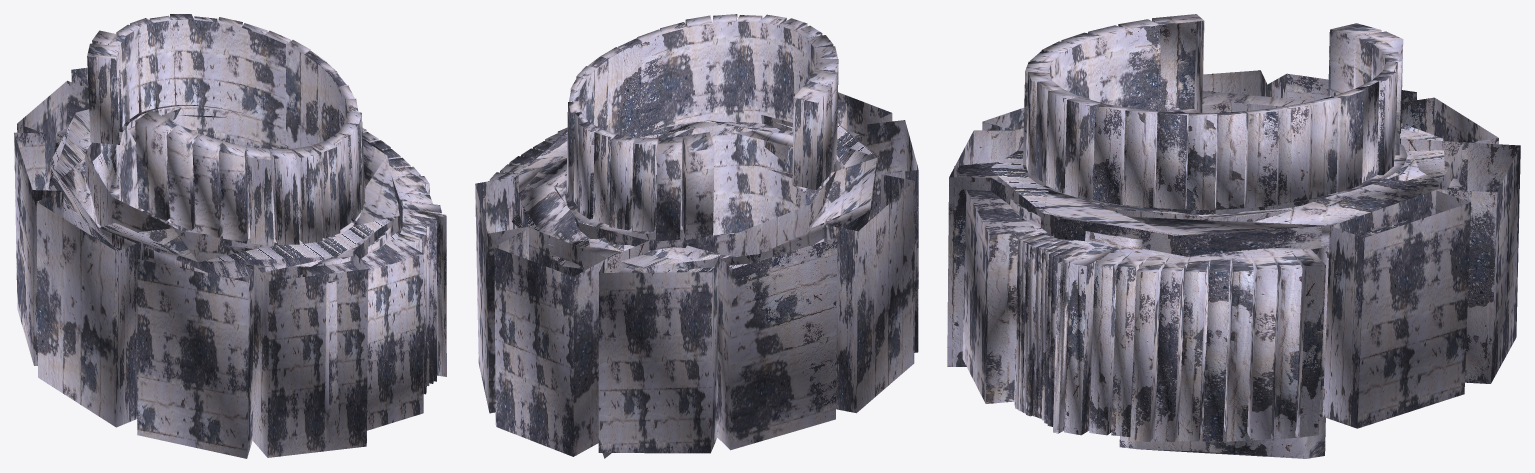
Rendered from decor3.obj.
3 renders of one model, left to right at view 1: azimuth 30°, elevation 25°; view 2: azimuth 150°, elevation 25°; view 3: azimuth 270°, elevation 25°, orthographic. The views are drawn at different scales.
Visible parts, largest first — view 1: engranage_Cube.016; view 2: engranage_Cube.016; view 3: engranage_Cube.016.
Boxes of the visible parts, bbox=[...] form: engranage_Cube.016: bbox=[14, 14, 446, 458]; engranage_Cube.016: bbox=[475, 14, 918, 458]; engranage_Cube.016: bbox=[947, 14, 1520, 458].
Size of the model in its own units: 14587 by 14103 by 19610.
Materials: 1 (1 with a texture image).
